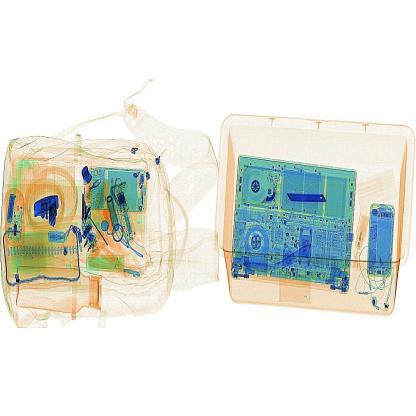pliers: (280, 180, 331, 222)
